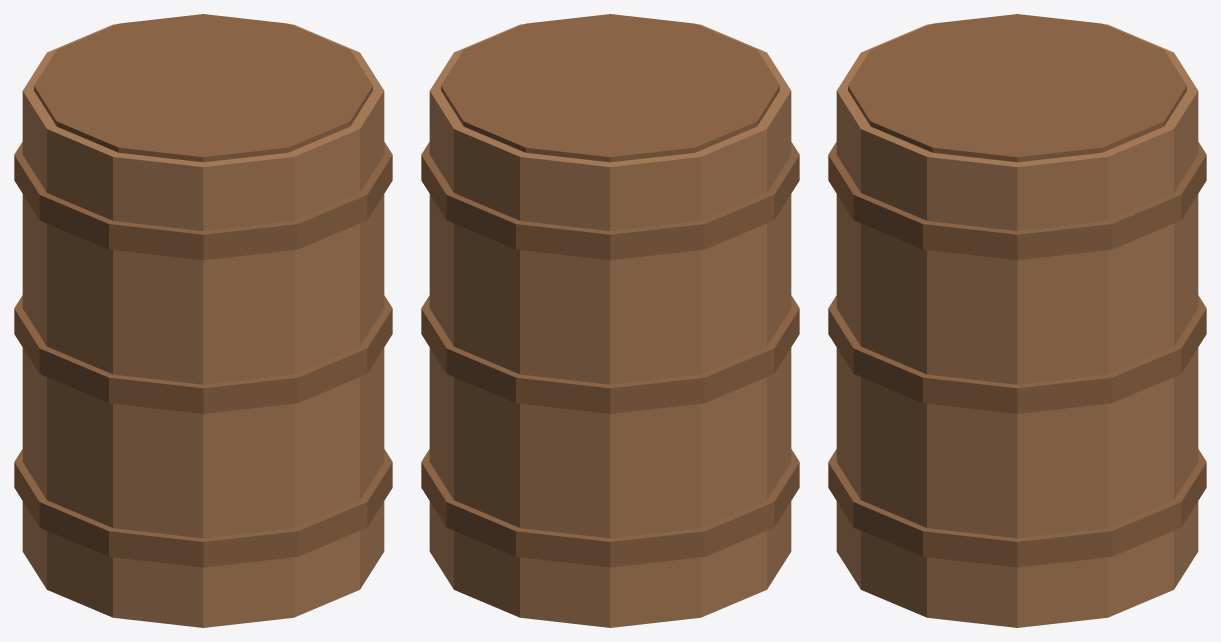
The model's file is barrel.glb.
3 renders of one model, left to right at view 1: azimuth 30°, elevation 25°; view 2: azimuth 150°, elevation 25°; view 3: azimuth 270°, elevation 25°, orthographic.
Parts seen in each view (by area): view 1: Barrel; view 2: Barrel; view 3: Barrel.
Boxes of the visible parts, bbox=[...] form: Barrel: bbox=[14, 14, 392, 627]; Barrel: bbox=[421, 14, 799, 627]; Barrel: bbox=[828, 14, 1206, 627].
Size of the model in its own units: 0.67 by 0.91 by 0.67.
